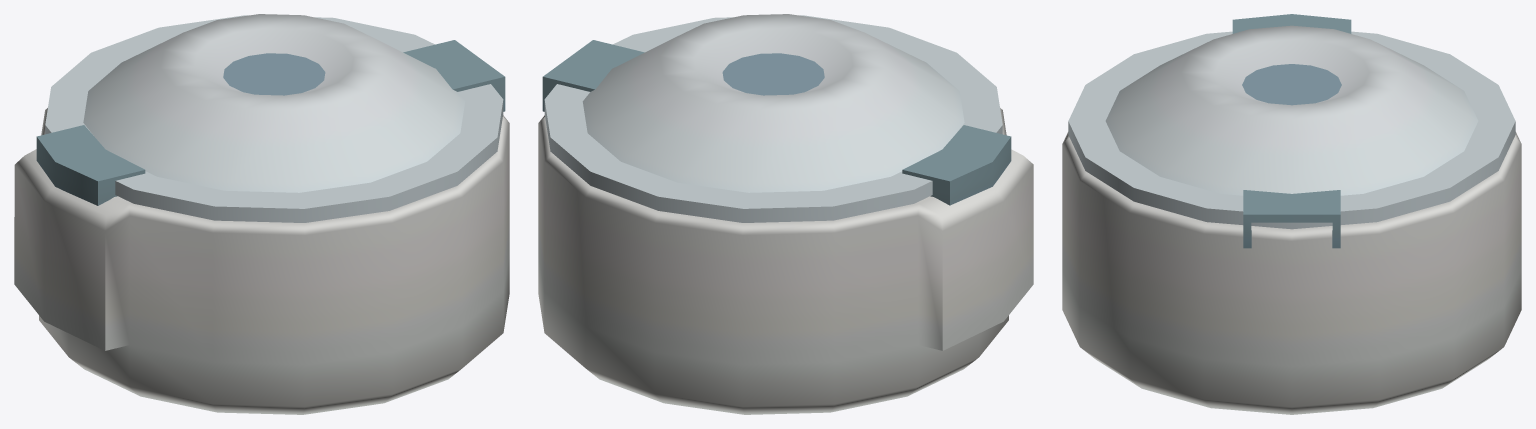
File: Pfb_JLAB_Sterilizer.fbx
The picture shows the model from 3 angles, left to right: view 1: azimuth 30°, elevation 25°; view 2: azimuth 150°, elevation 25°; view 3: azimuth 270°, elevation 25°; orthographic projection. The views are drawn at different scales.
Visible parts, largest first — view 1: Color; view 2: Color; view 3: Color.
Part boxes in pixels (bbox=[...]): Color: bbox=[14, 14, 509, 414]; Color: bbox=[538, 14, 1033, 414]; Color: bbox=[1062, 14, 1521, 414].
Size of the model in its own units: 0.3754 by 0.2145 by 0.3535.
Materials: 1 (1 with a texture image).
